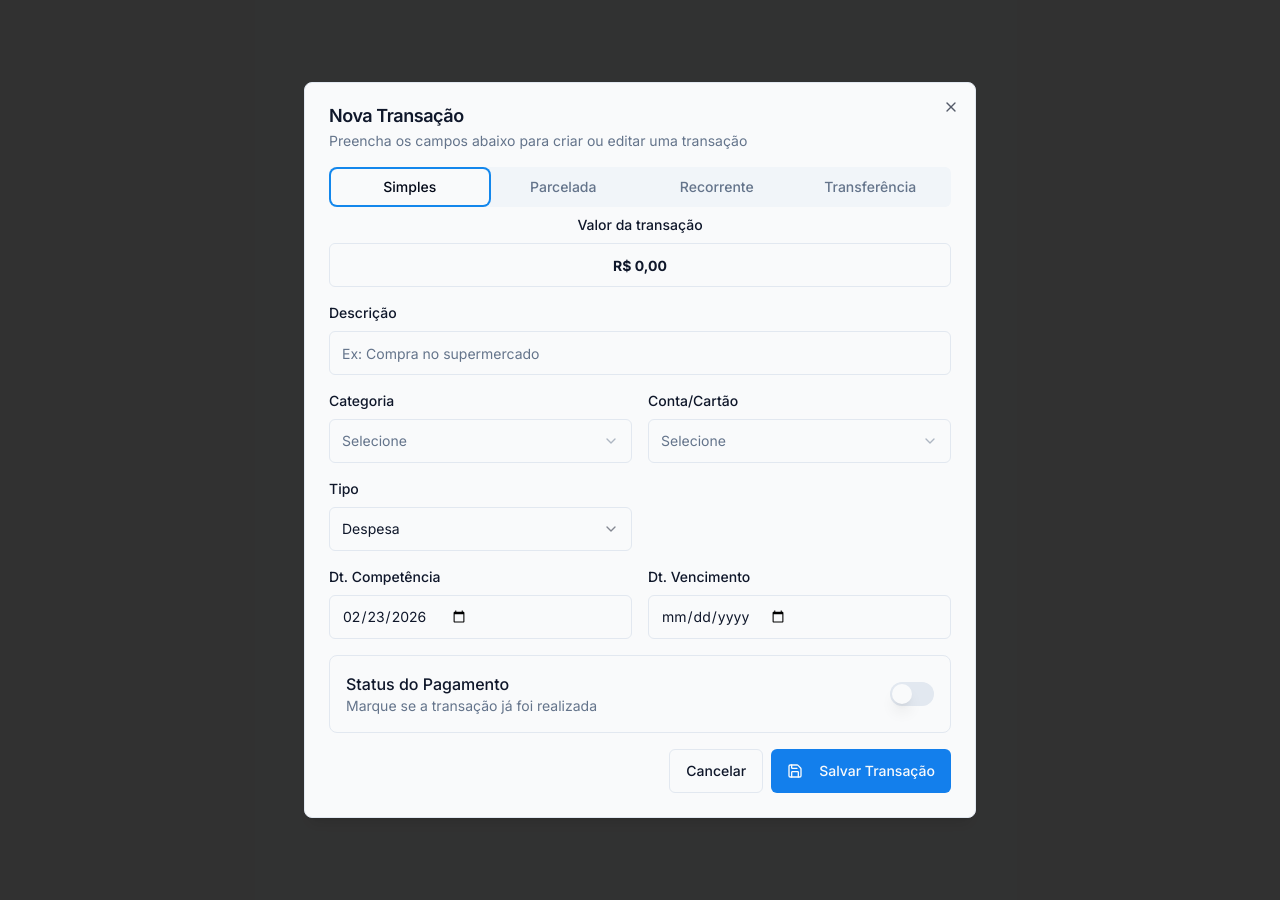
TransactionForm › Simple Transaction Form › shows fallback categories when filtered expense list is empty
Click the dropdown named "categoria". click: coordinates (374, 440)
box: x1=329 y1=419 x2=632 y2=463
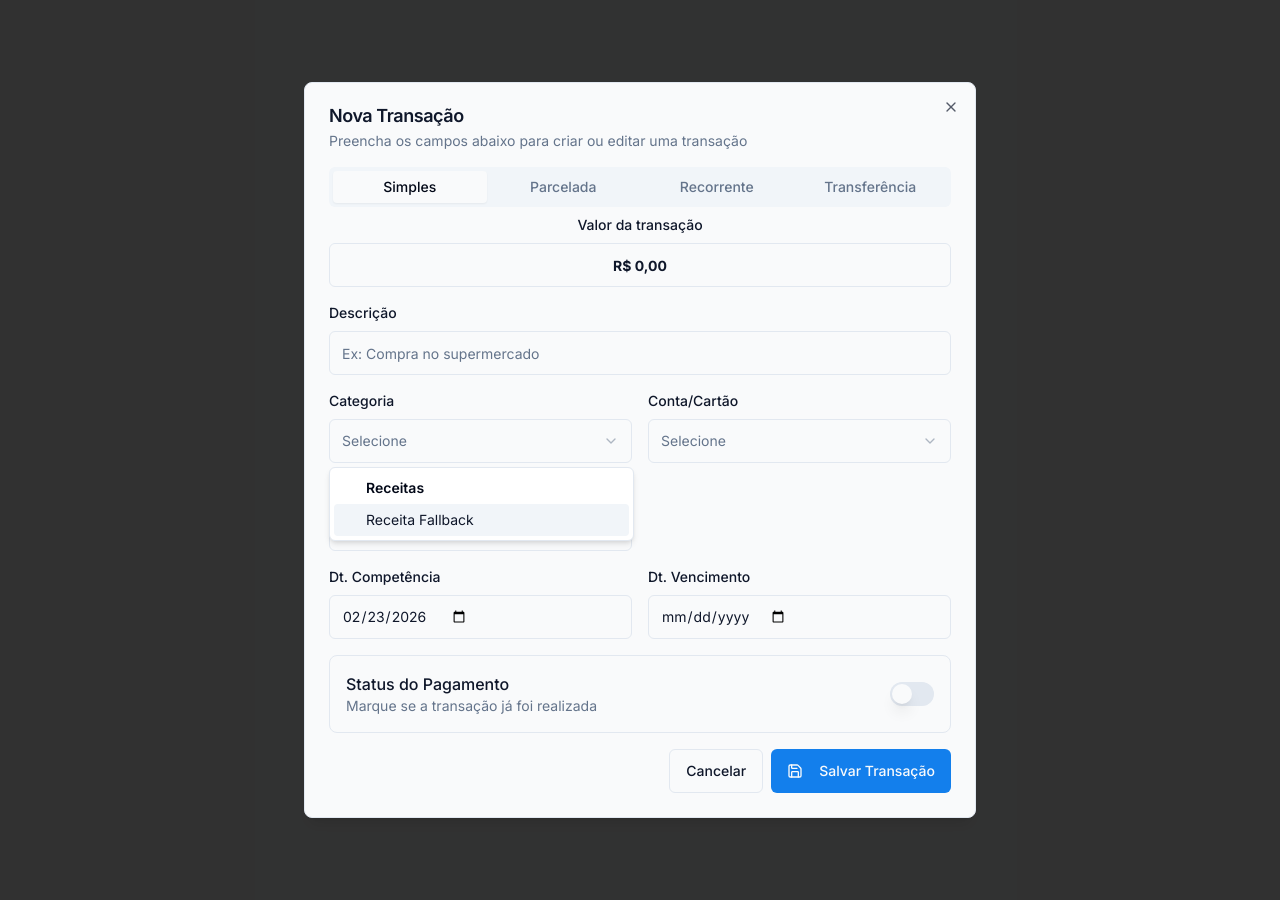
Result: the option "Receita Fallback" is shown at x1=334 y1=504 x2=629 y2=536
